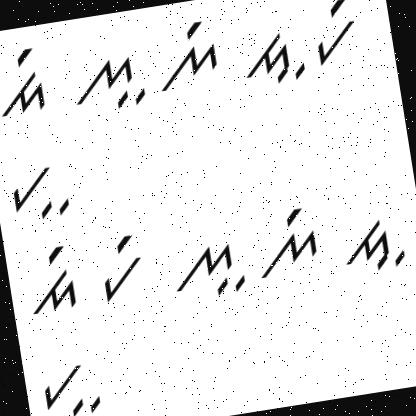dah: (234, 22, 310, 90), (337, 212, 410, 281)
dang: (18, 236, 82, 320), (0, 41, 53, 121)
nah: (162, 231, 250, 306), (65, 50, 151, 118)
nang: (149, 16, 225, 96), (248, 204, 322, 284)
pah: (2, 154, 74, 224), (30, 352, 107, 416)
pang: (92, 229, 152, 306), (306, 0, 364, 69)
